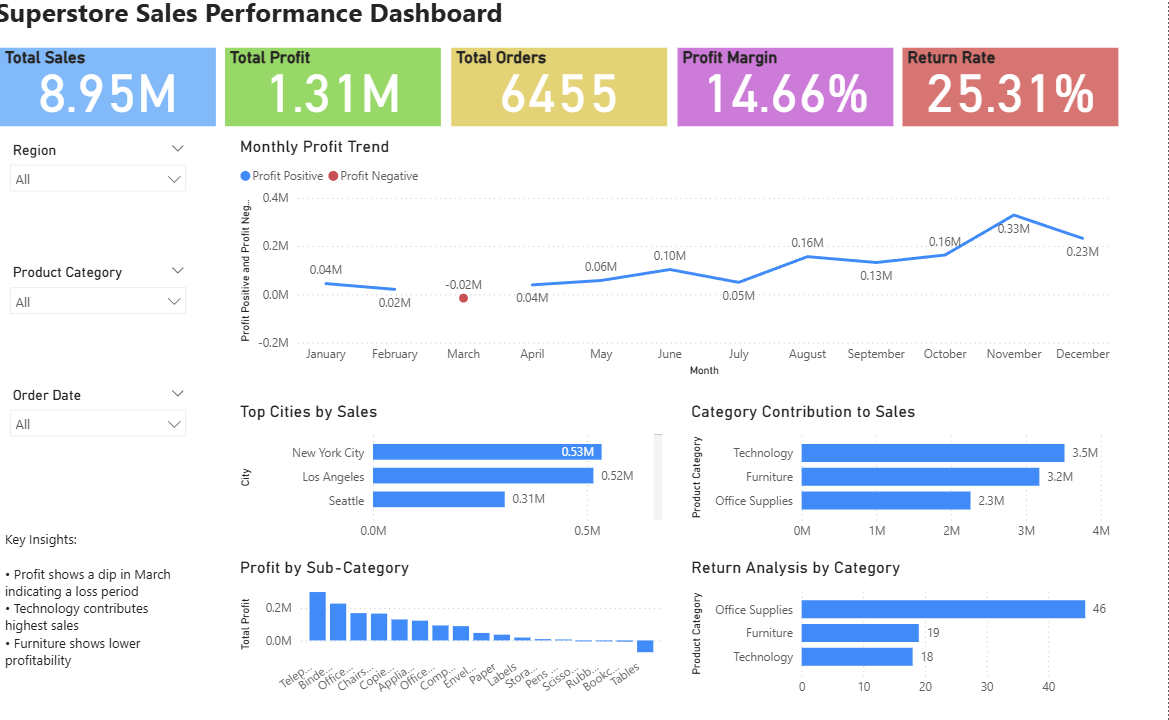

What the dashboard file says about the page in this screenshot:
{"tool":"powerbi","page":{"name":"Page 2","canvas":[1200,750],"ordinal":0},"visuals":[{"type":"card","title":"Total Sales","fields":{"Values":["Orders.Total Sales"]},"box":[10,60,220,80],"z":0},{"type":"card","title":"Total Profit","fields":{"Values":["Orders.Total Profit"]},"box":[240,60,220,80],"z":1000},{"type":"card","title":"Total Orders","fields":{"Values":["Orders.Total Orders"]},"box":[470,60,220,80],"z":2000},{"type":"card","title":"Profit Margin","fields":{"Values":["Orders.Profit Margin"]},"box":[700,60,220,80],"z":3000},{"type":"card","title":"Return Rate","fields":{"Values":["Orders.Return Rate"]},"box":[930,60,220,80],"z":4000},{"type":"lineChart","title":"Monthly Profit Trend ","fields":{"Category":["Orders.Order Date.Variation.Date Hierarchy.Month"],"Y":["Orders.Profit Positive","Orders.Profit Negative"]},"box":[250,150,900,250],"z":4001},{"type":"textbox","box":[0,0,1200.8,50.1],"z":4002},{"type":"barChart","title":"Top Cities by Sales","fields":{"Category":["Orders.City"],"Y":["Orders.Total Sales"]},"box":[250,420,440,150],"z":4003},{"type":"barChart","title":"Category Contribution to Sales","fields":{"Category":["Orders.Product Category"],"Y":["Orders.Total Sales"]},"box":[710,420,440,150],"z":4004},{"type":"columnChart","title":"Profit by Sub-Category","fields":{"Category":["Orders.Product Sub-Category"],"Y":["Orders.Total Profit"]},"box":[250,580,440,150],"z":4005},{"type":"barChart","title":"Return Analysis by Category","fields":{"Category":["Orders.Product Category"],"Y":["Orders.Return Count Fixed"]},"box":[710,580,440,150],"z":4006},{"type":"slicer","fields":{"Values":["Orders.Region"]},"box":[10.2,150.3,200,124.8],"z":4007},{"type":"slicer","fields":{"Values":["Orders.Product Category"]},"box":[10.2,275.1,200,110.8],"z":4008},{"type":"slicer","fields":{"Values":["Orders.Order Date"]},"box":[10.2,400,200,141.4],"z":4009},{"type":"textbox","box":[10.2,546.5,200,183.4],"z":4010}]}

Visuals, with their boxes in screenshot pixels (x1, y1, x2, y2), scaled from the page's 1200x750 canvas onto the 1169x720 screenshot:
"Total Sales" card: l=10, t=58, r=224, b=134
"Total Profit" card: l=234, t=58, r=448, b=134
"Total Orders" card: l=458, t=58, r=672, b=134
"Profit Margin" card: l=682, t=58, r=896, b=134
"Return Rate" card: l=906, t=58, r=1120, b=134
"Monthly Profit Trend " lineChart: l=244, t=144, r=1120, b=384
textbox: l=0, t=0, r=1168, b=48
"Top Cities by Sales" barChart: l=244, t=403, r=672, b=547
"Category Contribution to Sales" barChart: l=692, t=403, r=1120, b=547
"Profit by Sub-Category" columnChart: l=244, t=557, r=672, b=701
"Return Analysis by Category" barChart: l=692, t=557, r=1120, b=701
slicer - Orders.Region: l=10, t=144, r=205, b=264
slicer - Orders.Product Category: l=10, t=264, r=205, b=370
slicer - Orders.Order Date: l=10, t=384, r=205, b=520
textbox: l=10, t=525, r=205, b=701
